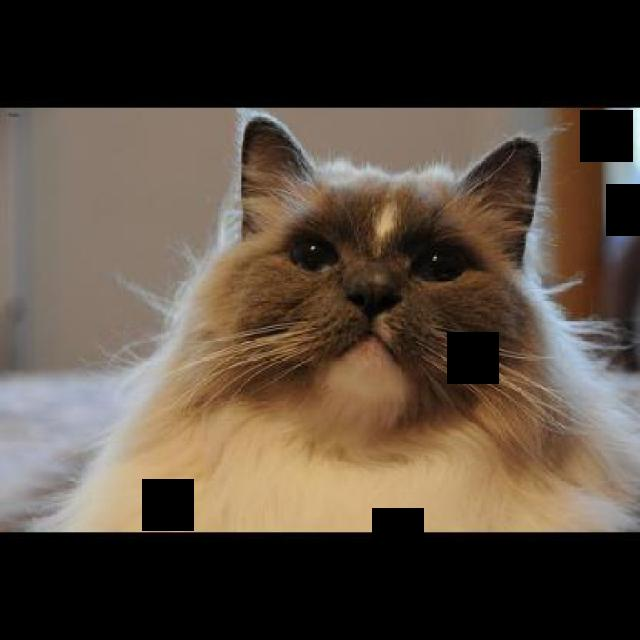unauthorized: (24, 106, 638, 532)
